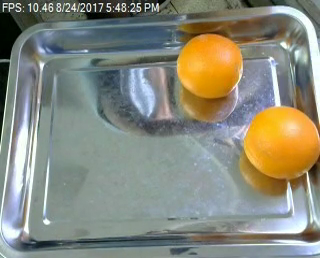Orange: (242, 105, 319, 180), (175, 34, 243, 99)
